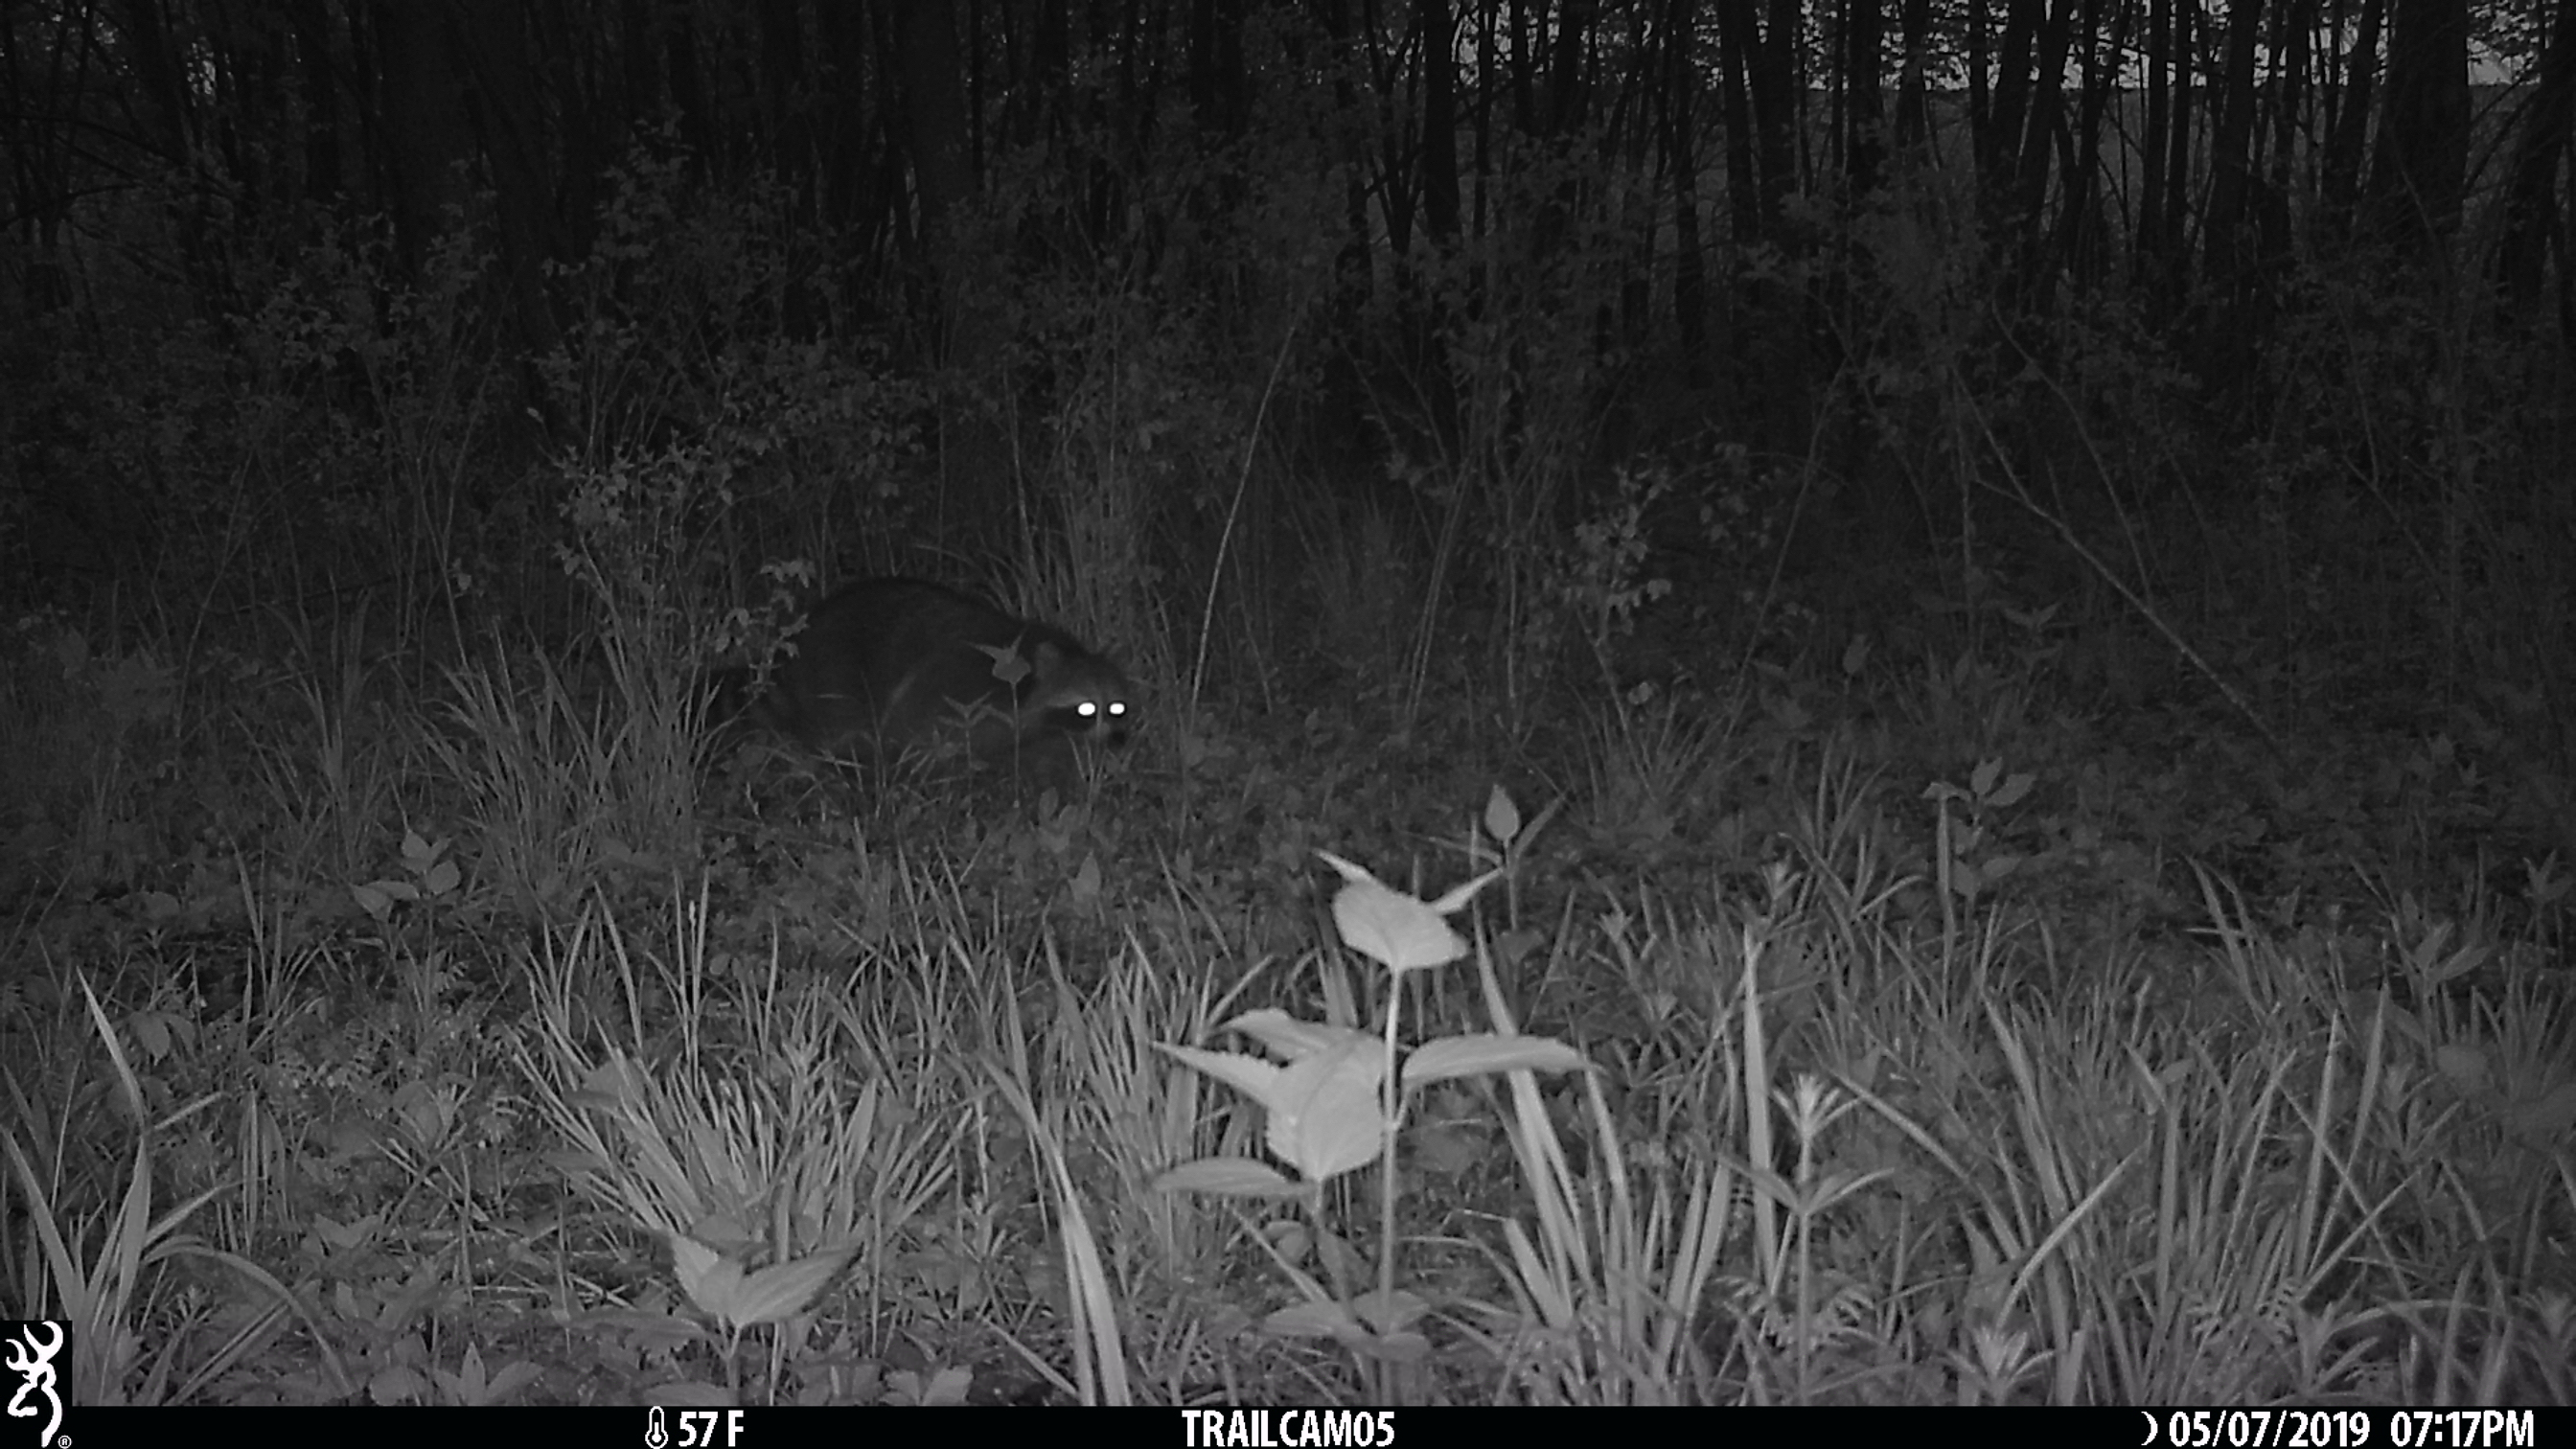Raccoon: (695, 577, 1134, 757)
